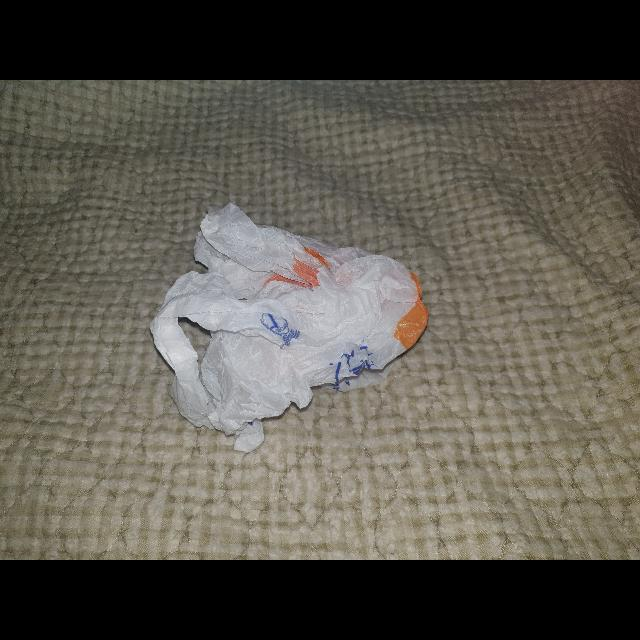plastic_bag: (141, 189, 437, 459)
